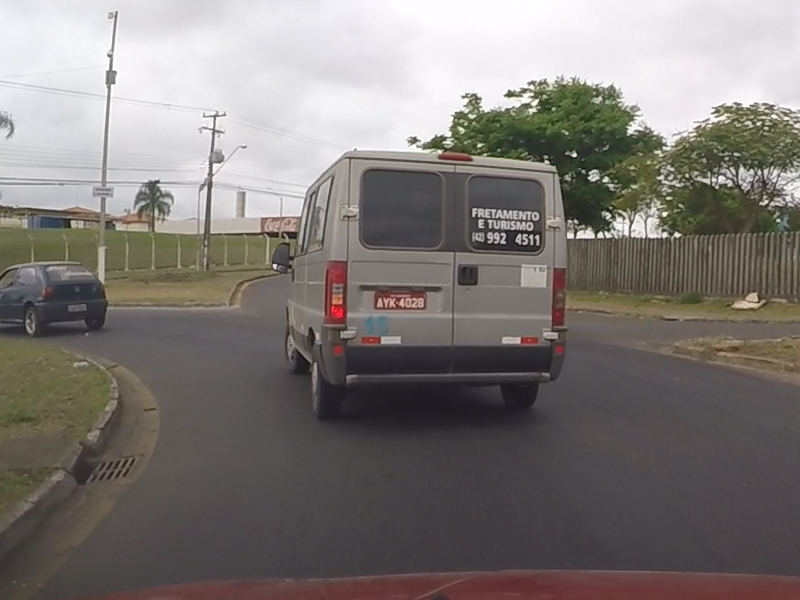placa: (374, 291, 427, 310)
